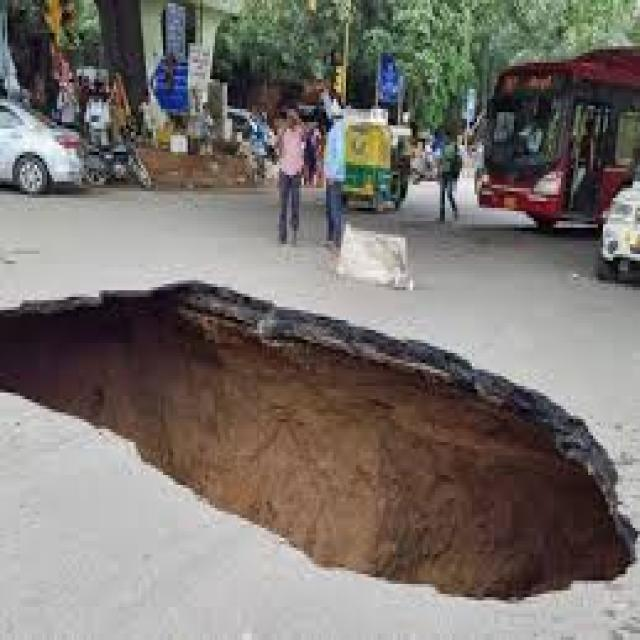Pothole: (0, 280, 638, 604)
